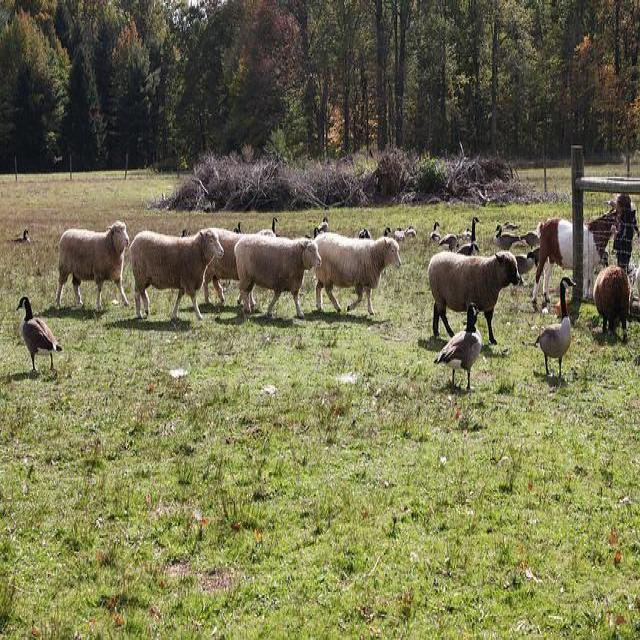Sheep: (428, 250, 522, 346), (131, 229, 224, 324), (534, 201, 617, 304), (234, 232, 323, 320), (314, 232, 403, 318), (56, 220, 131, 309), (203, 228, 276, 306), (592, 264, 632, 343)
